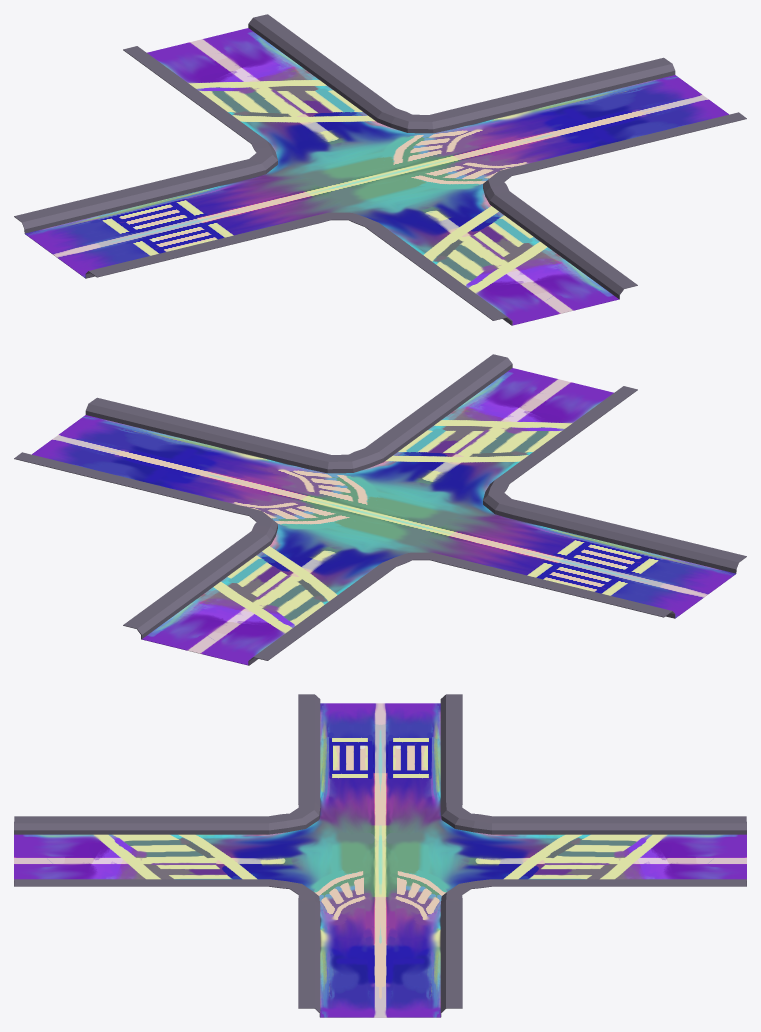
File: SUP_ARCH_XRoad_v01.fbx
The picture shows the model from 3 angles, top to bottom: view 1: azimuth 30°, elevation 25°; view 2: azimuth 150°, elevation 25°; view 3: azimuth 270°, elevation 25°; orthographic projection.
Parts seen in each view (by area): view 1: T-road-quantick.001; view 2: T-road-quantick.001; view 3: T-road-quantick.001.
Boxes of the visible parts, left/top/right/bottom form: T-road-quantick.001: left=14, top=14, right=746, bottom=325; T-road-quantick.001: left=14, top=354, right=746, bottom=665; T-road-quantick.001: left=14, top=694, right=746, bottom=1017.
Size of the model in its own units: 3204 by 46.21 by 3161.
2 materials, 1 textured.
